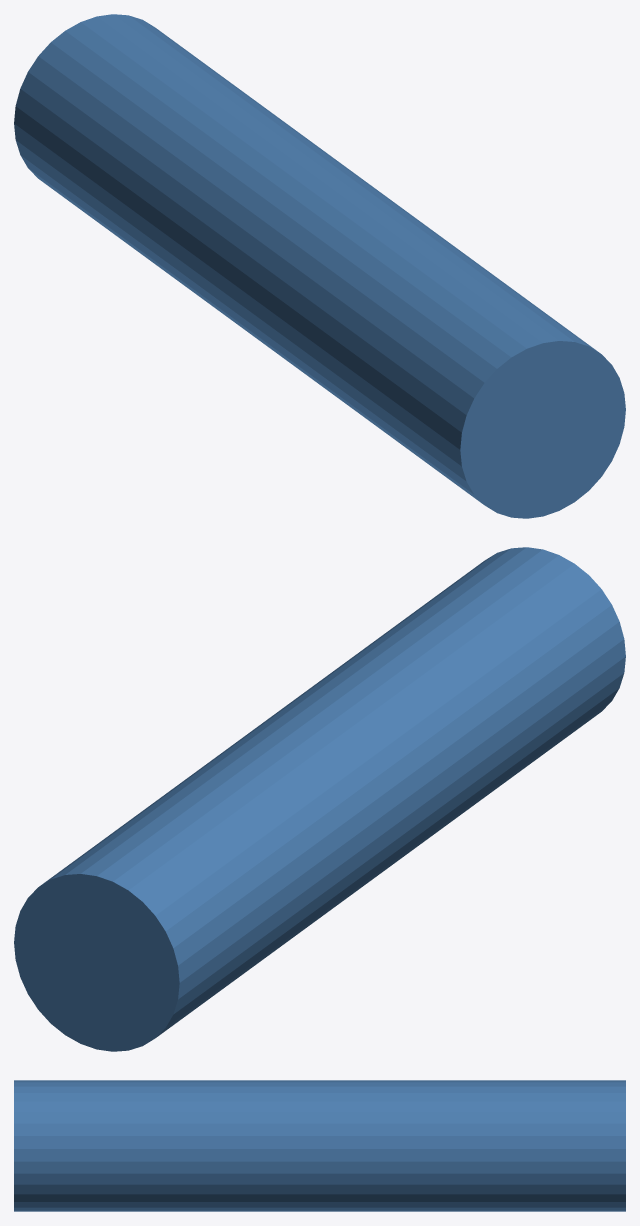
File: AL_NightveilBomber_LOD0.glb
3 renders of one model, top to bottom at view 1: azimuth 30°, elevation 25°; view 2: azimuth 150°, elevation 25°; view 3: azimuth 270°, elevation 25°, orthographic. The views are drawn at different scales.
Visible parts, largest first — view 1: Cylinder; view 2: Cylinder; view 3: Cylinder.
Part boxes in pixels (<box>): Cylinder: <box>14,14,625,518</box>; Cylinder: <box>14,547,625,1051</box>; Cylinder: <box>14,1080,625,1211</box>.
Size of the model in its own units: 0.9 by 0.9 by 4.2.
